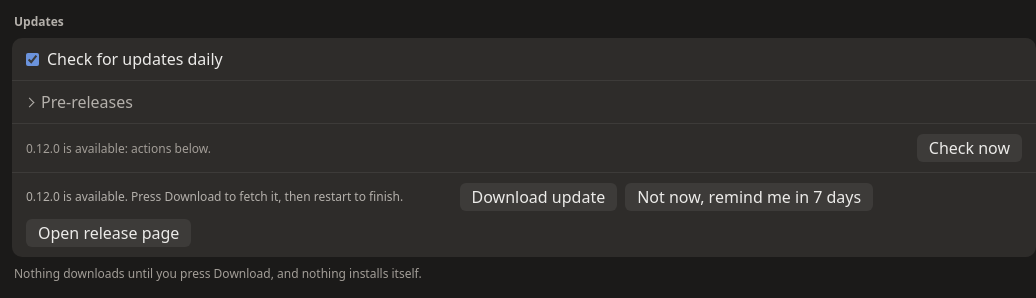
Test case: UpdatesSetting › offers Retry download after a failed download, keeping Check now
What coordinates should you click on to do the following:
click the button "Download update"
I would click on:
 (538, 197)
Its box is [460,183,617,211].
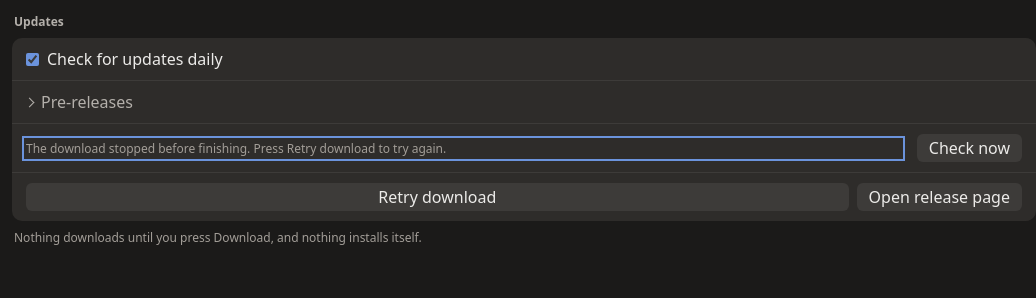
Expected: the button "Check now" is shown, [917,134,1022,162]
Result: the button "Retry download" is shown at [26,183,849,211]
